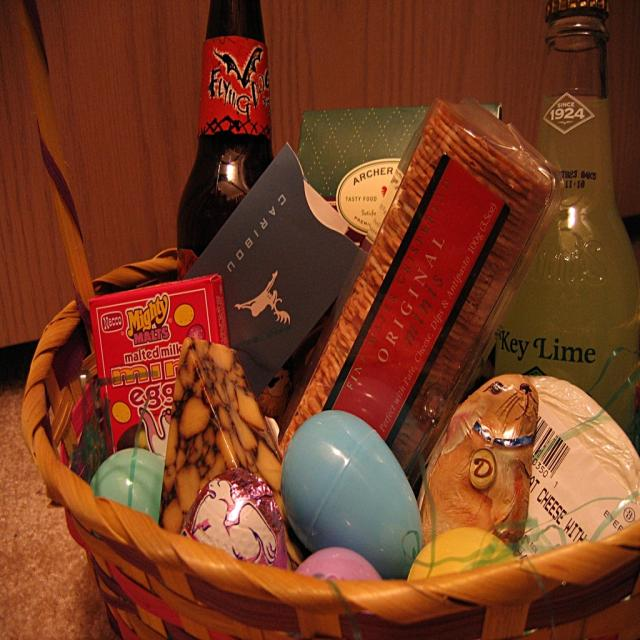Ball: (408, 525, 524, 583), (90, 447, 165, 525), (291, 545, 384, 580)
